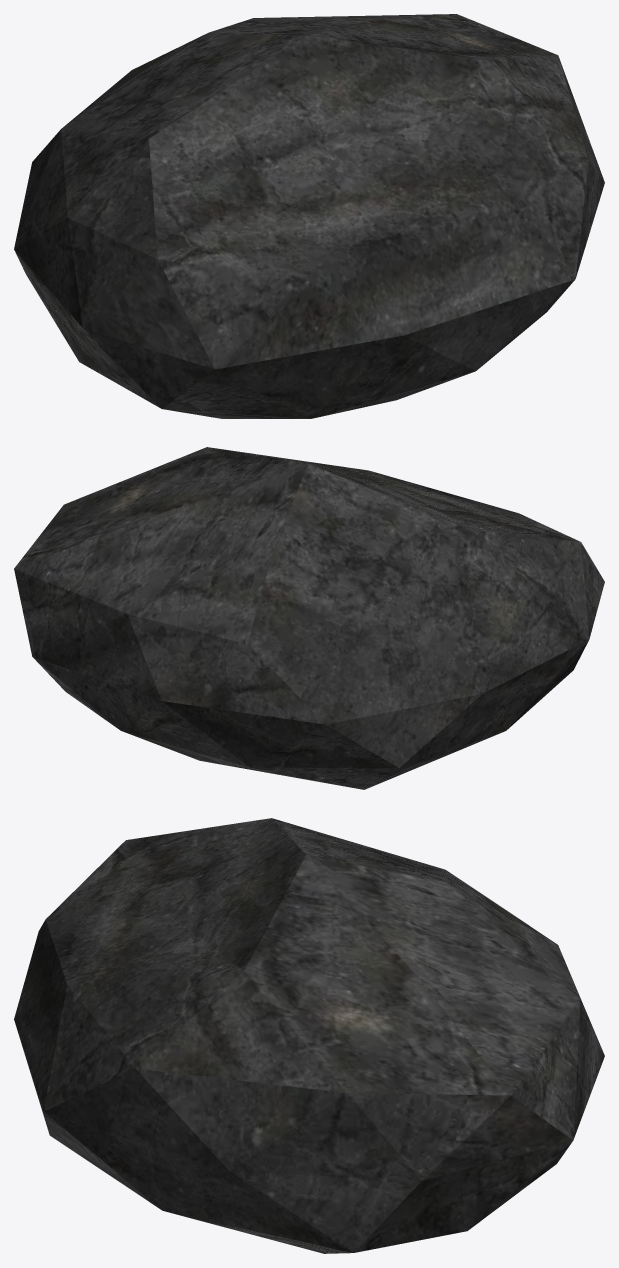
Rendered from boulder.glb.
3 renders of one model, top to bottom at view 1: azimuth 30°, elevation 25°; view 2: azimuth 150°, elevation 25°; view 3: azimuth 270°, elevation 25°, orthographic. The views are drawn at different scales.
Visible parts, largest first — view 1: BOULDER_LOW; view 2: BOULDER_LOW; view 3: BOULDER_LOW.
Boxes of the visible parts, x1,y1,x2,y2 form: BOULDER_LOW: (14, 14, 604, 418); BOULDER_LOW: (14, 447, 604, 789); BOULDER_LOW: (14, 818, 604, 1253).
Bounding box in the file's own units: 2.97 × 1.73 × 2.67.
1 material, 1 textured.
